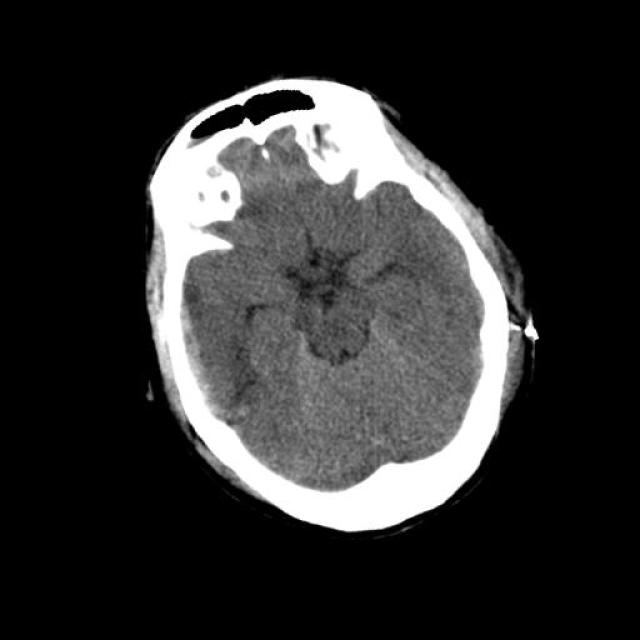Subdural: (132, 284, 242, 426)
